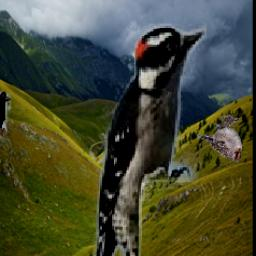Crow: (0, 92, 10, 158)
Sparrow: (197, 115, 244, 162)
Woodpecker: (93, 24, 205, 256)
